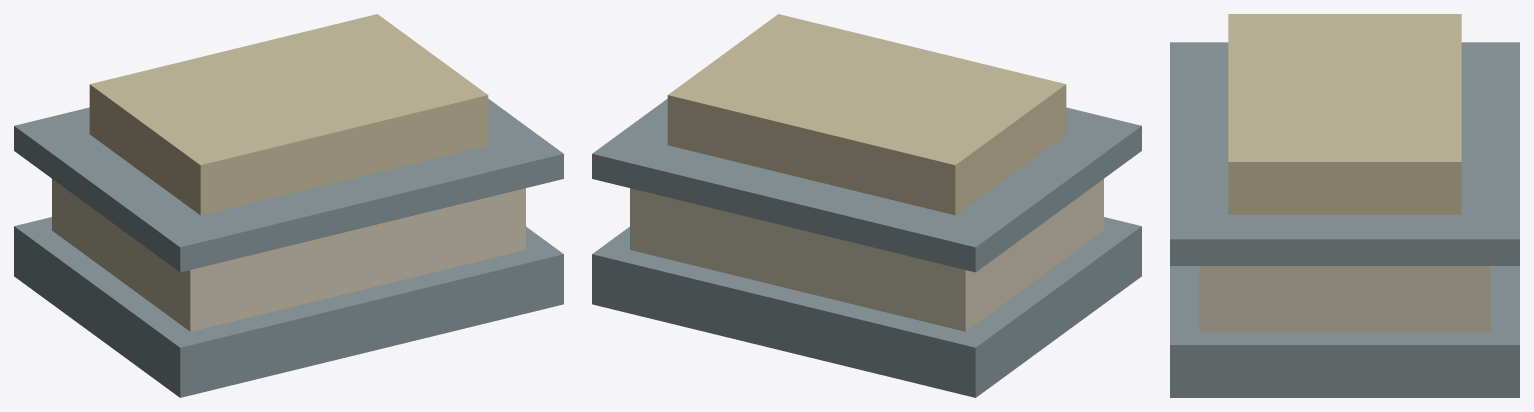
File: news-04.glb
3 views of the same model, side by side, from view 1: azimuth 30°, elevation 25°; view 2: azimuth 150°, elevation 25°; view 3: azimuth 270°, elevation 25° (orthographic). The views are drawn at different scales.
Parts seen in each view (by area): view 1: Newspaper stack; view 2: Newspaper stack; view 3: Newspaper stack.
Boxes of the visible parts, x1,y1,x2,y2 form: Newspaper stack: (14,14,563,397); Newspaper stack: (592,14,1141,397); Newspaper stack: (1170,14,1519,397).
Bounding box in the file's own units: 1.28 × 0.64 × 0.96.
